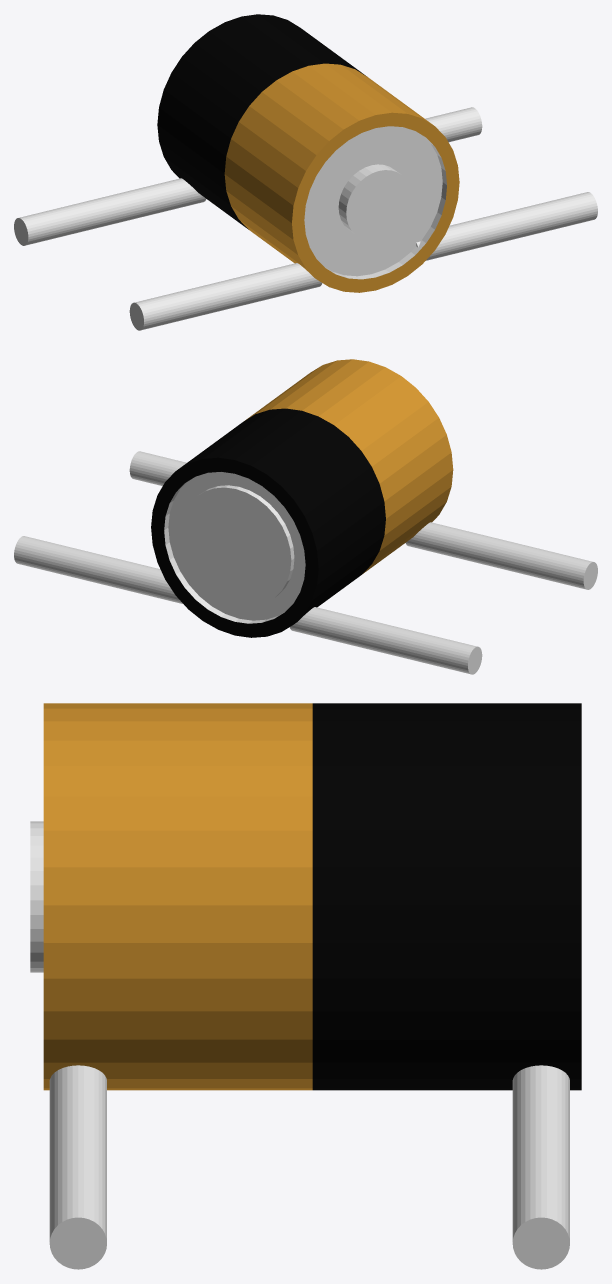
Rendered from Battery.fbx.
3 views of the same model, one above another, from view 1: azimuth 30°, elevation 25°; view 2: azimuth 150°, elevation 25°; view 3: azimuth 270°, elevation 25° (orthographic). The views are drawn at different scales.
Visible parts, largest first — view 1: Cylinder, Cylinder.001, Cylinder.002, Cylinder.004, Cylinder.003; view 2: Cylinder, Cylinder.002, Cylinder.001, Cylinder.003, Cylinder.004; view 3: Cylinder, Cylinder.004, Cylinder.003.
Part boxes in pixels (<box>): Cylinder: <box>157,14,459,292</box>; Cylinder.001: <box>129,263,322,330</box>; Cylinder.002: <box>14,178,206,245</box>; Cylinder.004: <box>416,192,597,260</box>; Cylinder.003: <box>425,107,482,142</box>; Cylinder: <box>151,359,453,637</box>; Cylinder.002: <box>289,607,482,674</box>; Cylinder.001: <box>405,522,597,589</box>; Cylinder.003: <box>14,536,183,604</box>; Cylinder.004: <box>129,451,186,485</box>; Cylinder: <box>30,703,581,1090</box>; Cylinder.004: <box>49,1065,106,1269</box>; Cylinder.003: <box>512,1065,569,1269</box>.
Size of the model in its own units: 474 by 175 by 249.
